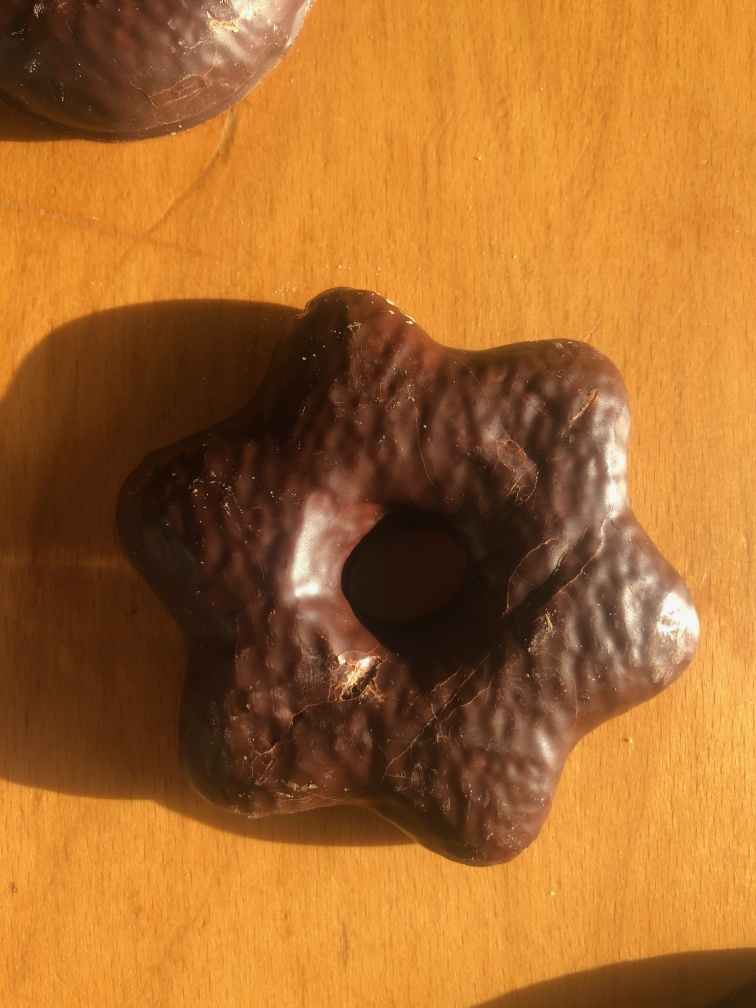star: (108, 278, 719, 875)
